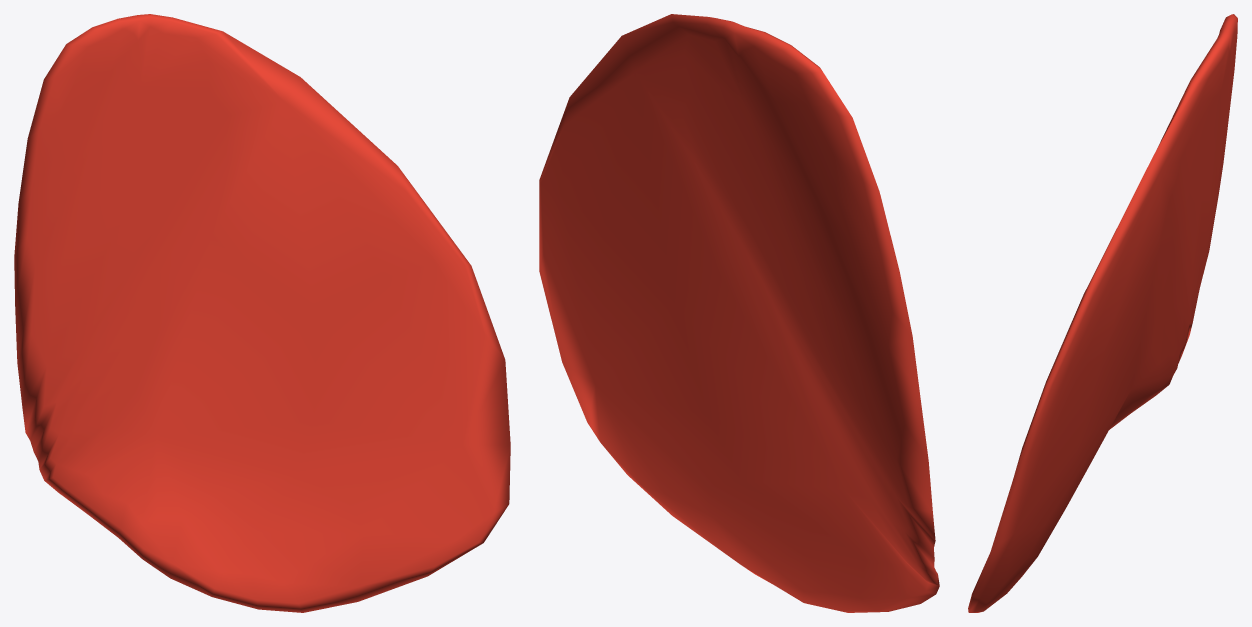
Rendered from Anconeus_humeral_insertion_left.glb.
3 renders of one model, left to right at view 1: azimuth 30°, elevation 25°; view 2: azimuth 150°, elevation 25°; view 3: azimuth 270°, elevation 25°, orthographic. The views are drawn at different scales.
Visible parts, largest first — view 1: Anconeus_muscle-Humeral_insertion.l_Generated_Mesh_From_X3D.; view 2: Anconeus_muscle-Humeral_insertion.l_Generated_Mesh_From_X3D.; view 3: Anconeus_muscle-Humeral_insertion.l_Generated_Mesh_From_X3D..
Part boxes in pixels (left/top/right/bottom): Anconeus_muscle-Humeral_insertion.l_Generated_Mesh_From_X3D.: left=14, top=14, right=510, bottom=612; Anconeus_muscle-Humeral_insertion.l_Generated_Mesh_From_X3D.: left=539, top=14, right=939, bottom=612; Anconeus_muscle-Humeral_insertion.l_Generated_Mesh_From_X3D.: left=968, top=14, right=1237, bottom=612.
Bounding box in the file's own units: 0.0148 × 0.0193 × 0.00897.
